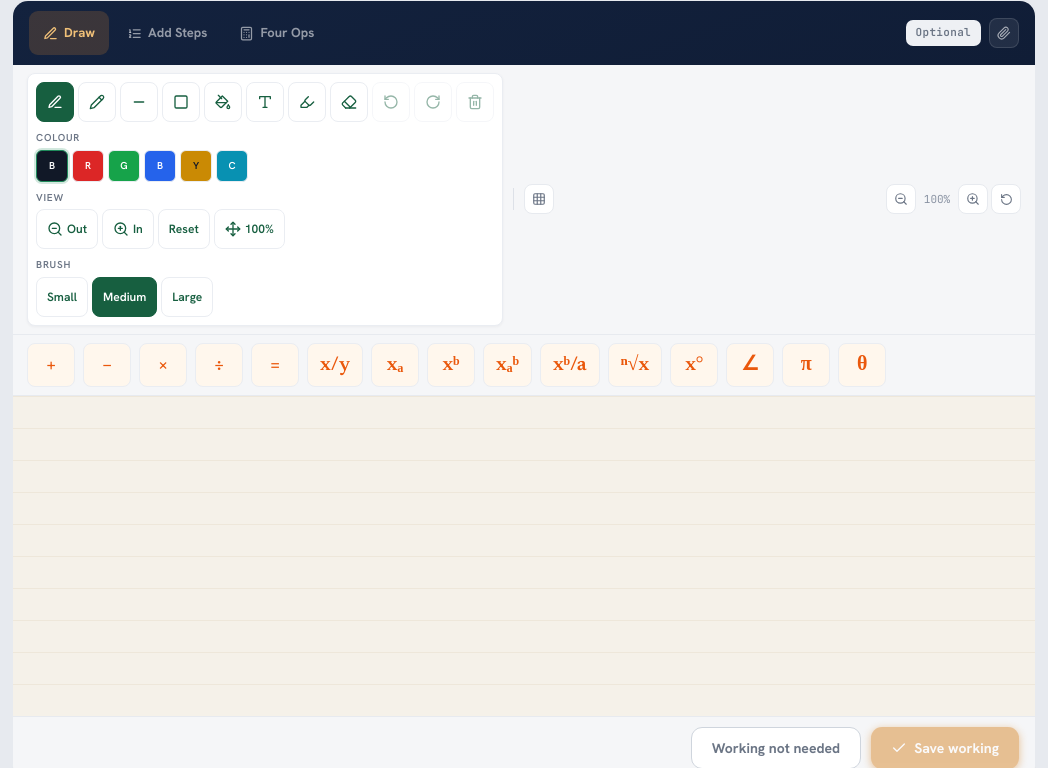
Test: WorkingCanvas › inserts a math symbol as a draggable object (not a baked stamp)
This screenshot has width=1048, height=768.
Click the button titled "Insert π".
click(806, 364)  # box left=782, top=342, right=830, bottom=386
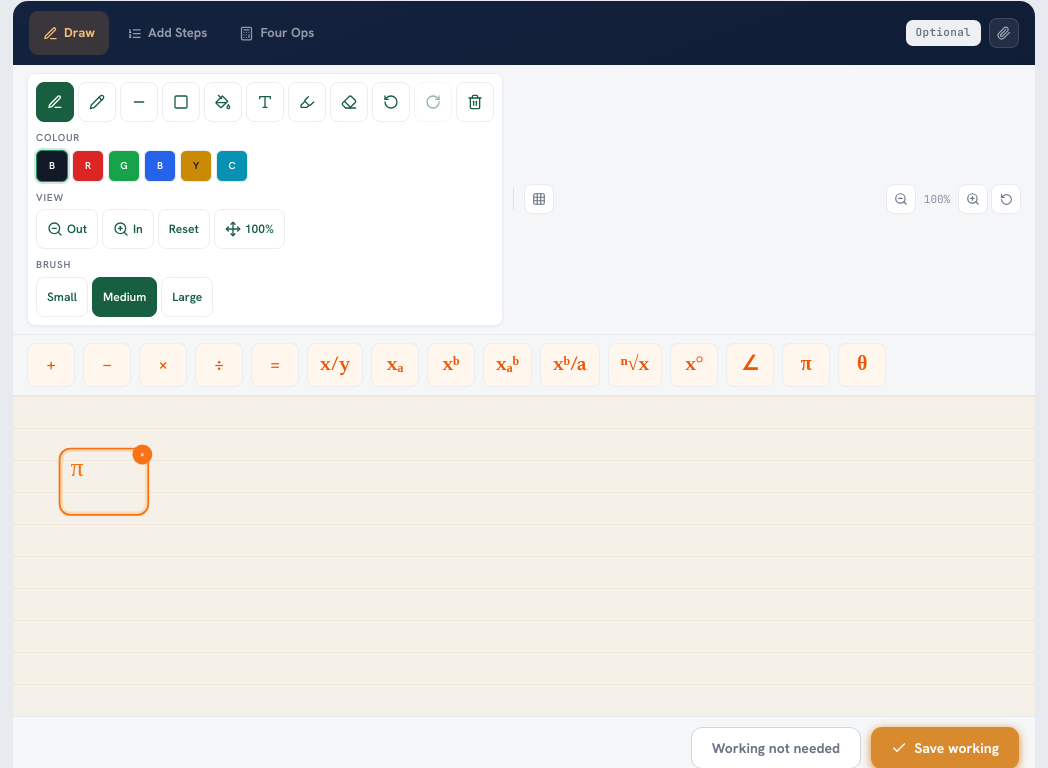
Now the button with test id "math-object-pi" is shown, box left=63, top=452, right=145, bottom=511
